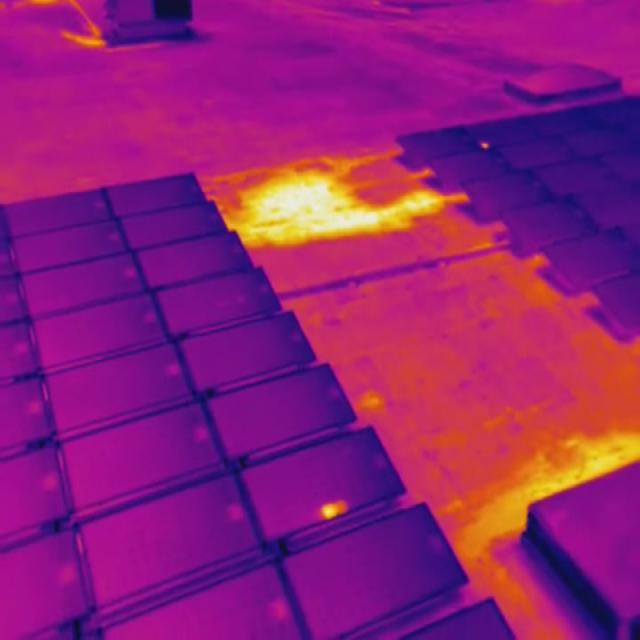Orange-Spots: (321, 498, 347, 518), (482, 142, 489, 150)
